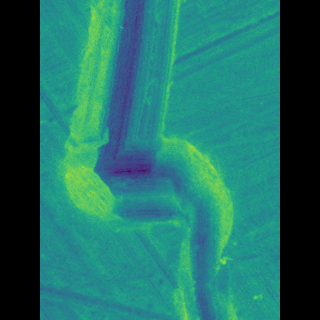Loch: (86, 0, 223, 320)
